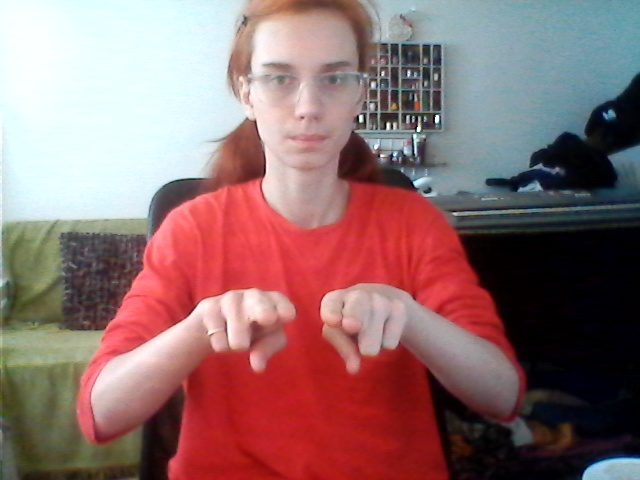brat: (195, 269, 412, 384)
